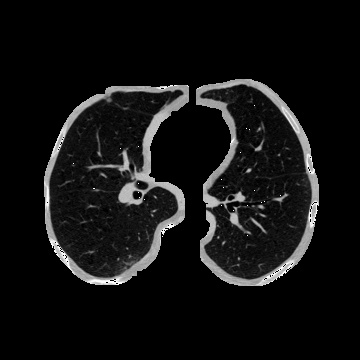PN: (107, 97, 111, 101)
